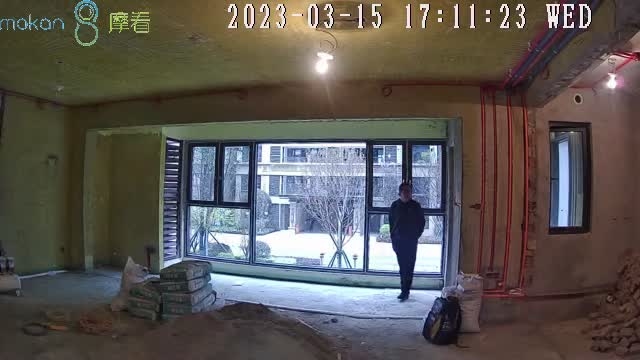people: (388, 183, 427, 300)
window: (181, 141, 450, 276), (549, 125, 583, 228)
